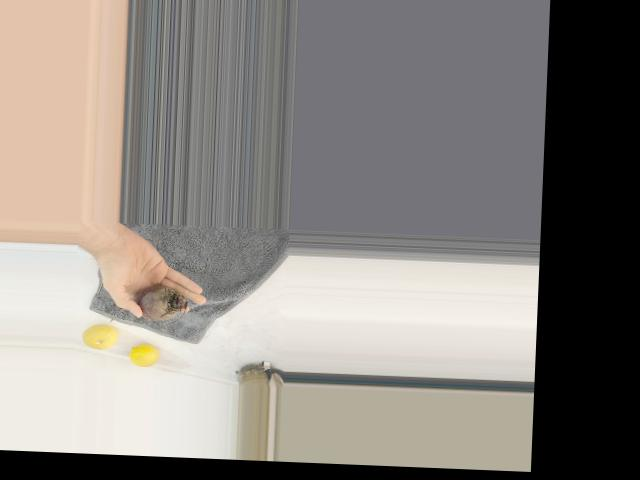beet: (110, 282, 188, 325)
